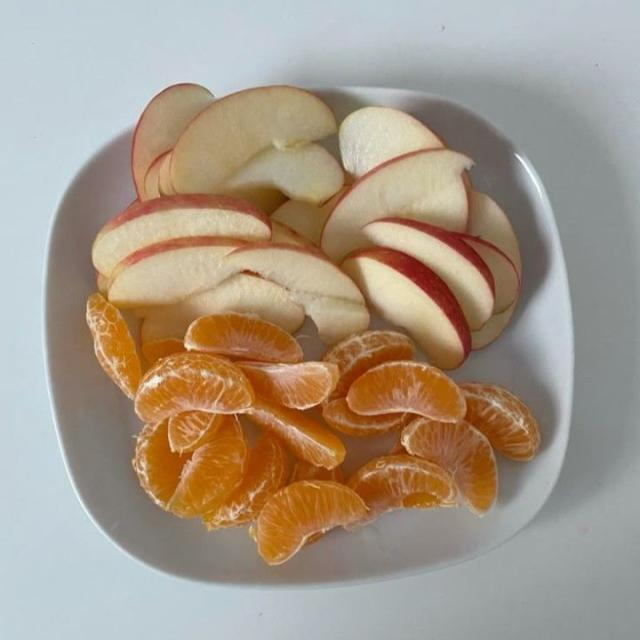apple: (109, 237, 369, 342), (171, 86, 336, 192), (321, 150, 471, 262), (342, 247, 471, 368), (364, 219, 495, 330), (224, 243, 369, 343), (93, 195, 271, 275), (136, 273, 304, 342), (109, 237, 246, 308), (132, 84, 214, 197), (225, 242, 364, 304), (339, 106, 444, 178), (223, 143, 343, 204), (467, 190, 521, 278), (461, 235, 520, 314), (272, 190, 342, 246), (472, 299, 517, 350), (140, 153, 169, 201), (243, 188, 287, 214), (272, 220, 314, 246), (159, 152, 175, 195), (96, 272, 108, 295)
